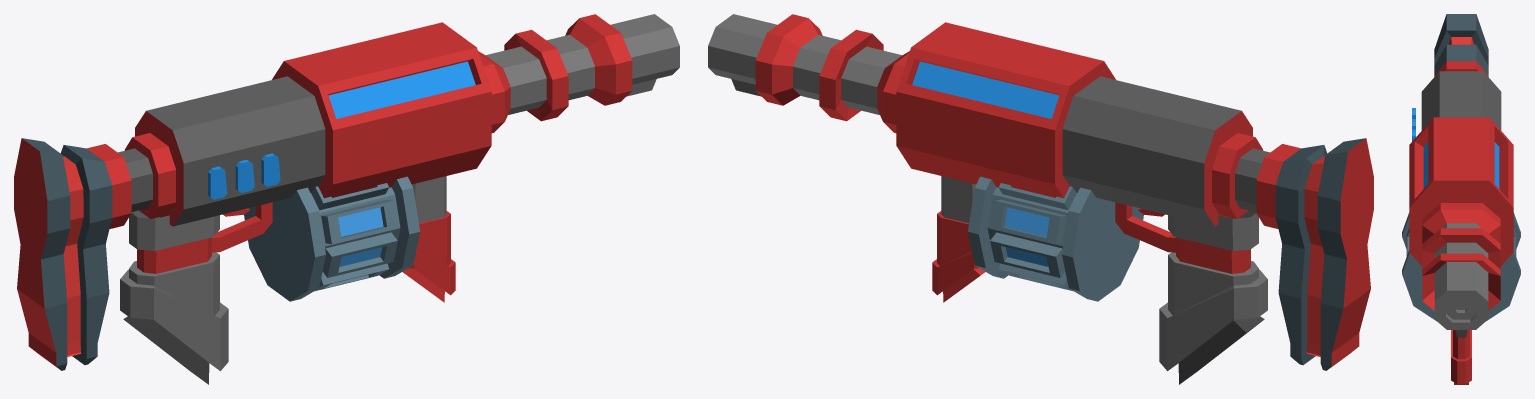
The model's file is Minigun.fbx.
3 views of the same model, side by side, from view 1: azimuth 30°, elevation 25°; view 2: azimuth 150°, elevation 25°; view 3: azimuth 270°, elevation 25° (orthographic). The views are drawn at different scales.
Visible parts, largest first — view 1: Minigun; view 2: Minigun; view 3: Minigun.
Boxes of the visible parts, bbox=[...] form: Minigun: bbox=[14, 14, 679, 384]; Minigun: bbox=[708, 14, 1373, 384]; Minigun: bbox=[1402, 14, 1520, 384].
Size of the model in its own units: 161 by 67.86 by 32.01.
